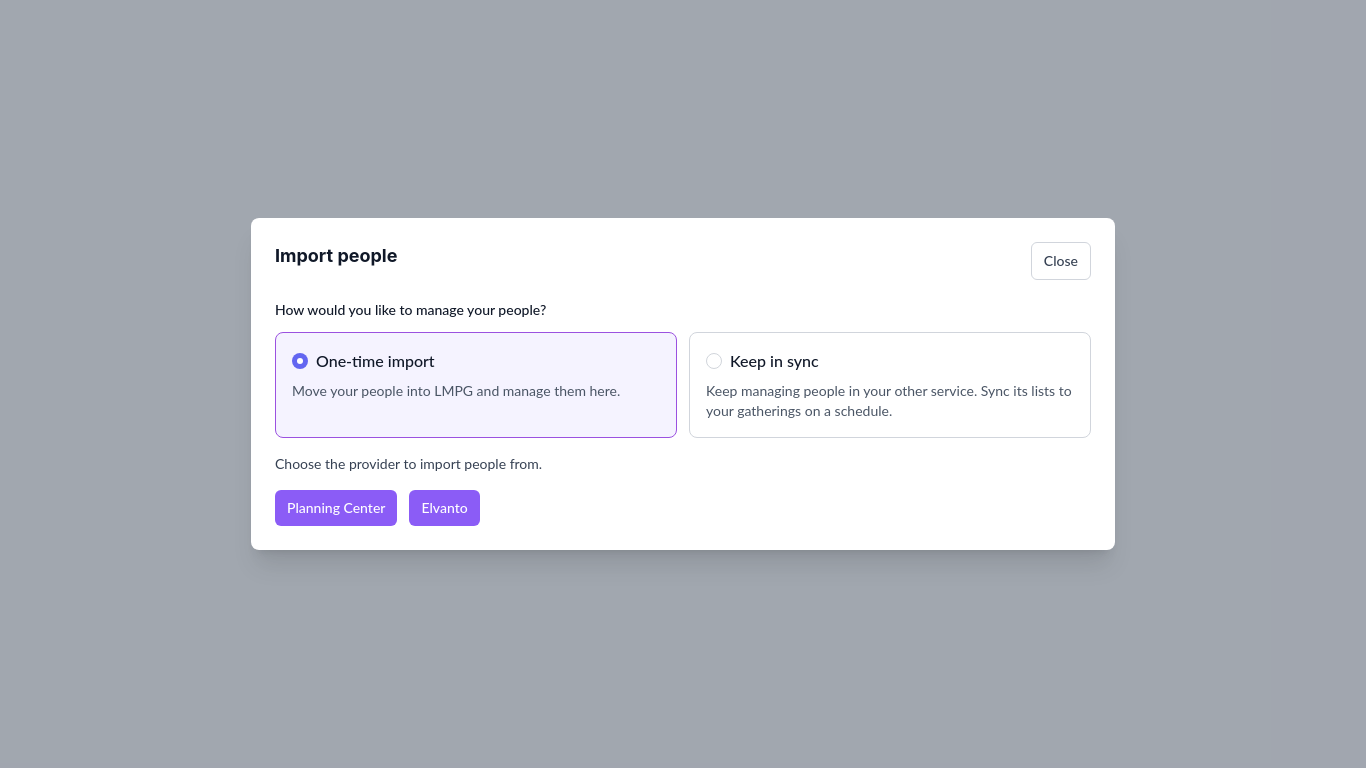
PeopleImportDialog › chooses a provider and sends exactly the Everyone selection to preview
Click the button "Planning Center" at (336, 508), box [275,490,397,526]
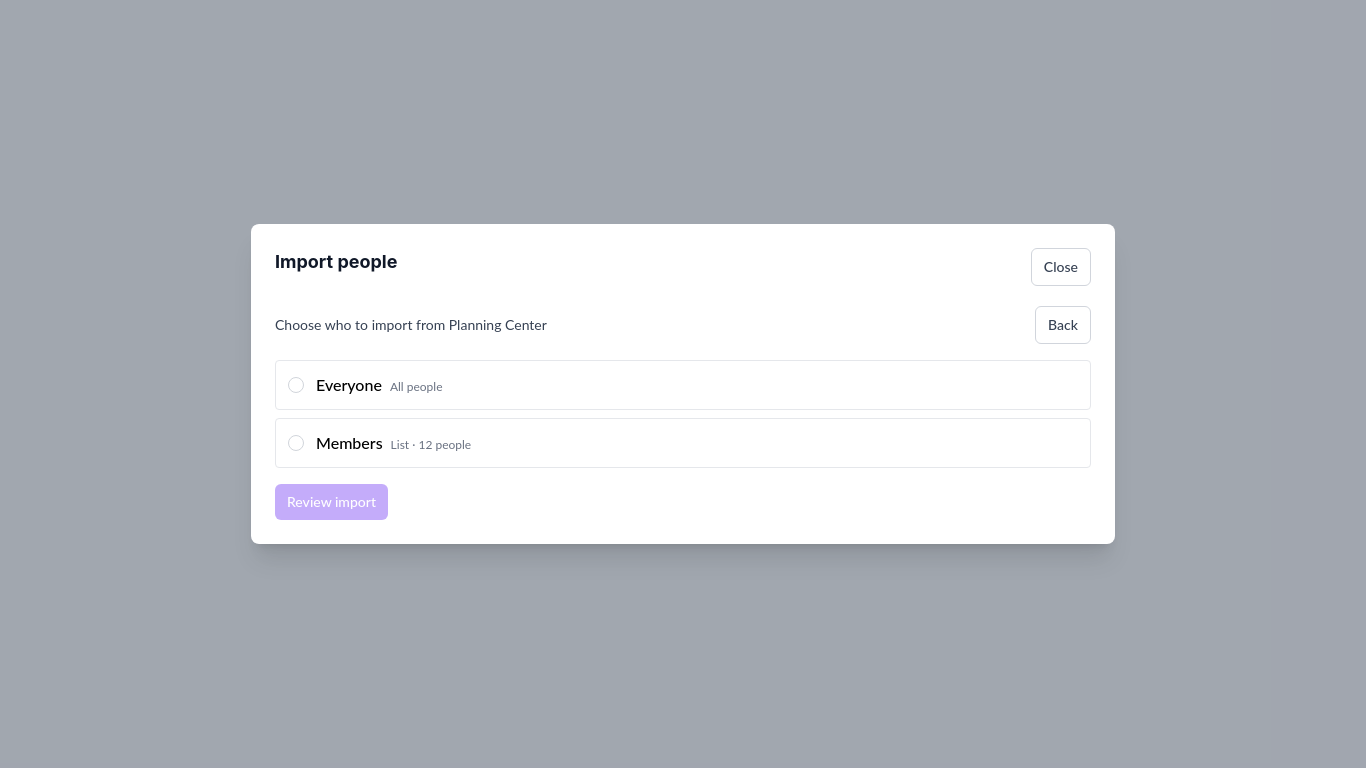
Click the radio button labelled "Everyone" at (296, 385), box [288,377,304,393]
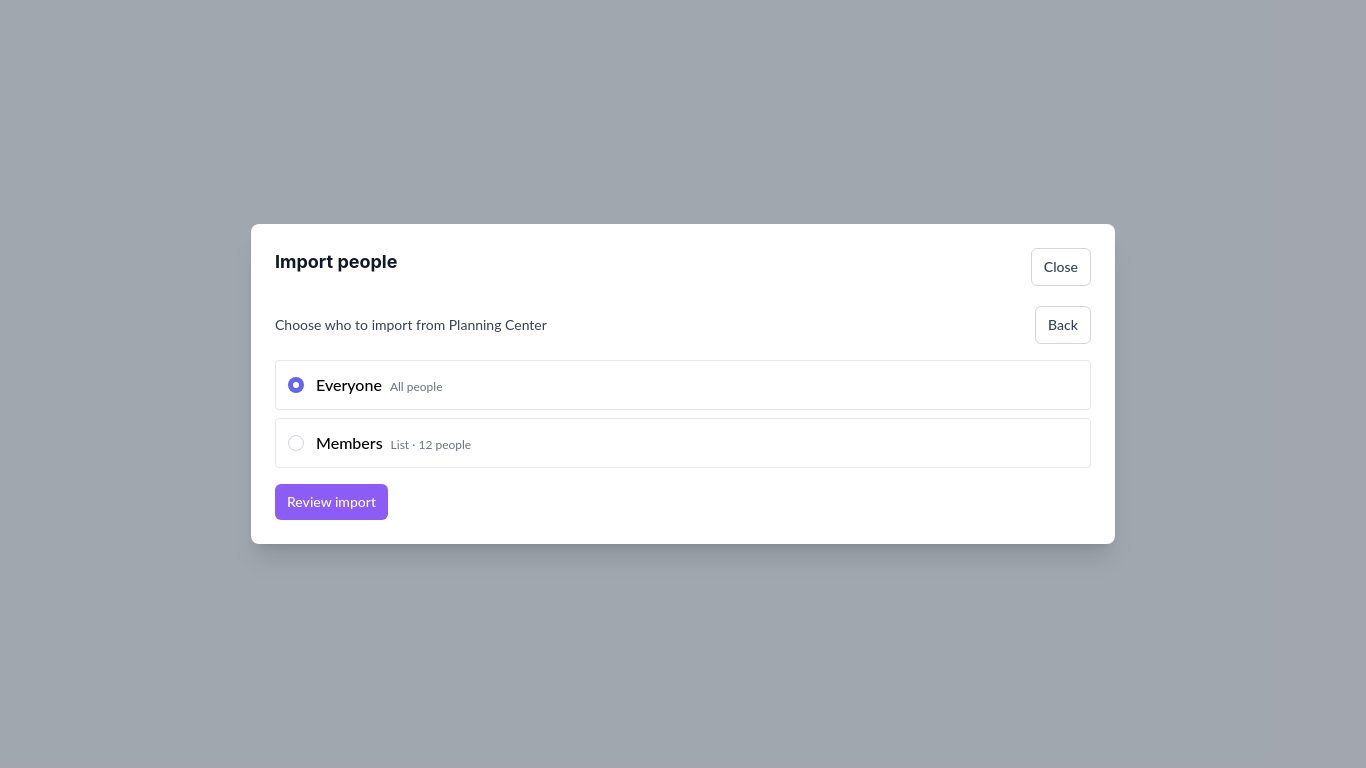
Click the button "Review import" at (332, 502), box [275,484,388,520]
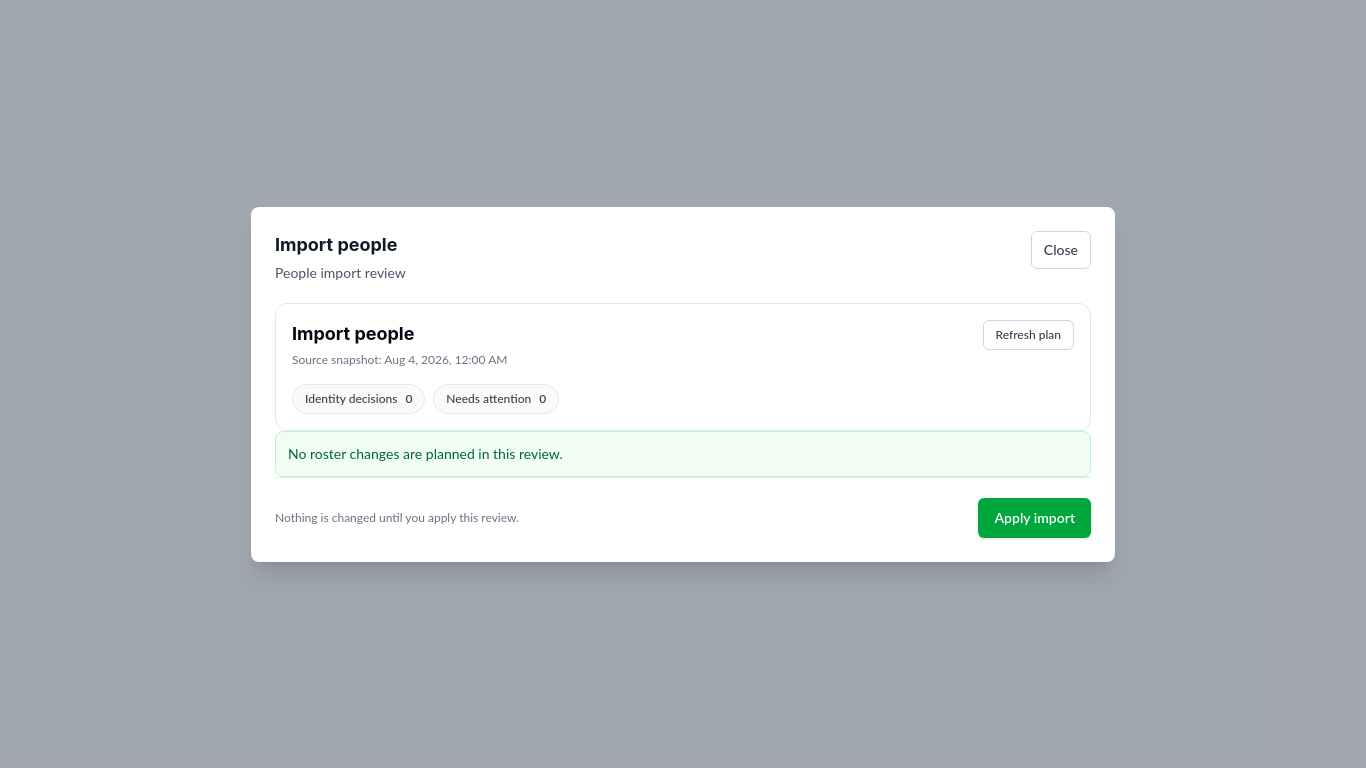
Check: the button "Apply import" is shown, box [978,498,1091,538]
Check: the text "People import review" is shown, box [275,262,406,282]
